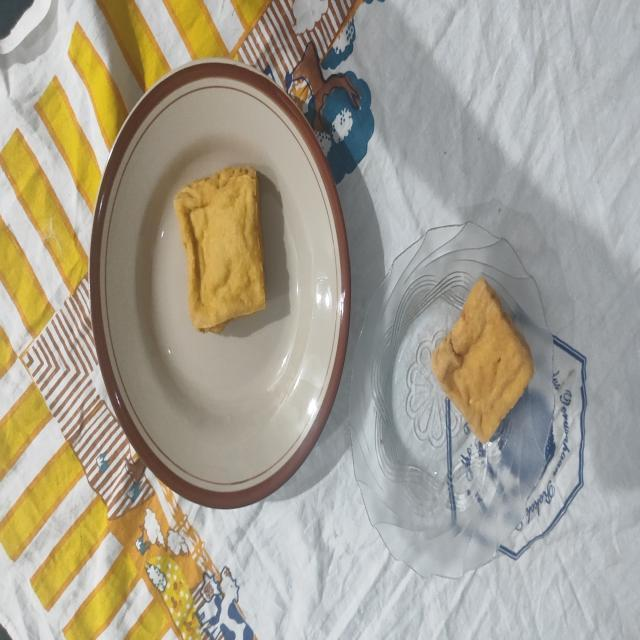tahu_goreng: (432, 277, 534, 444), (174, 167, 266, 332)
